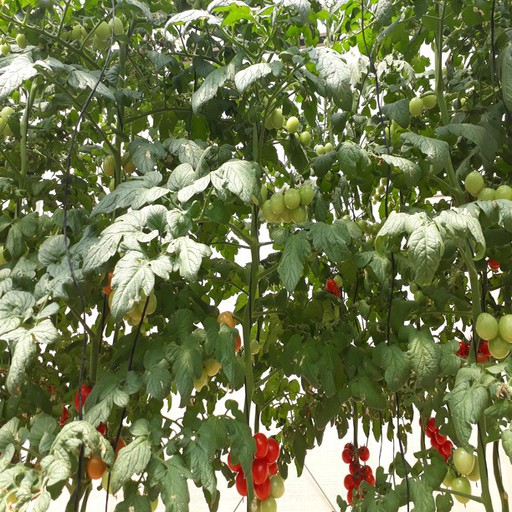green tomato bunch: (6, 15, 126, 49), (191, 312, 239, 392), (262, 109, 333, 154), (384, 91, 437, 141), (441, 447, 481, 501), (262, 184, 311, 222), (474, 313, 512, 358), (465, 169, 512, 204), (102, 151, 141, 193), (109, 288, 156, 320)
red tomato bunch: (72, 383, 126, 479), (229, 437, 279, 498), (342, 443, 376, 506), (420, 416, 454, 460)
